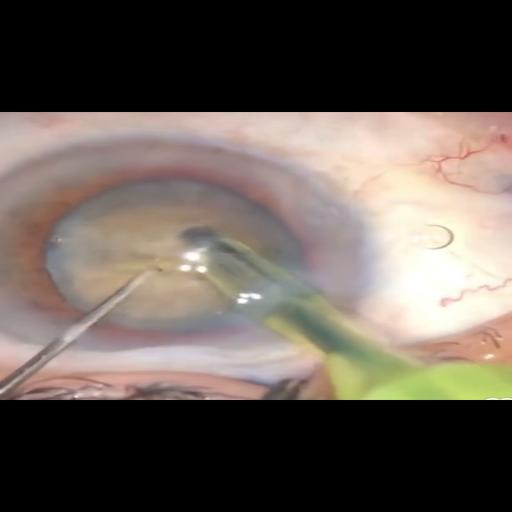catarata: (42, 184, 288, 334)
cornea: (0, 133, 396, 370)
pupil: (0, 172, 321, 339)
